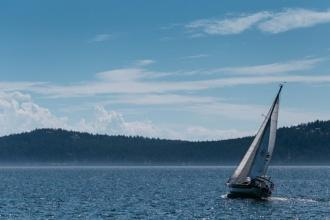fanchuan: (222, 82, 299, 201)
